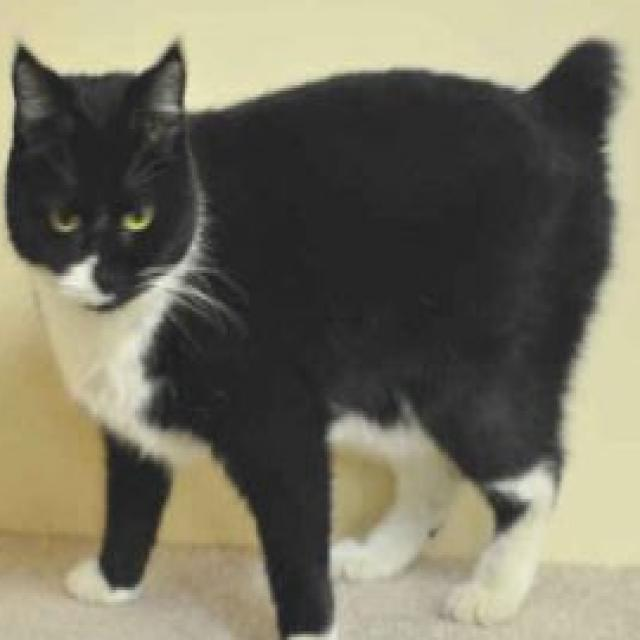American Bobtail: (0, 32, 628, 640)
